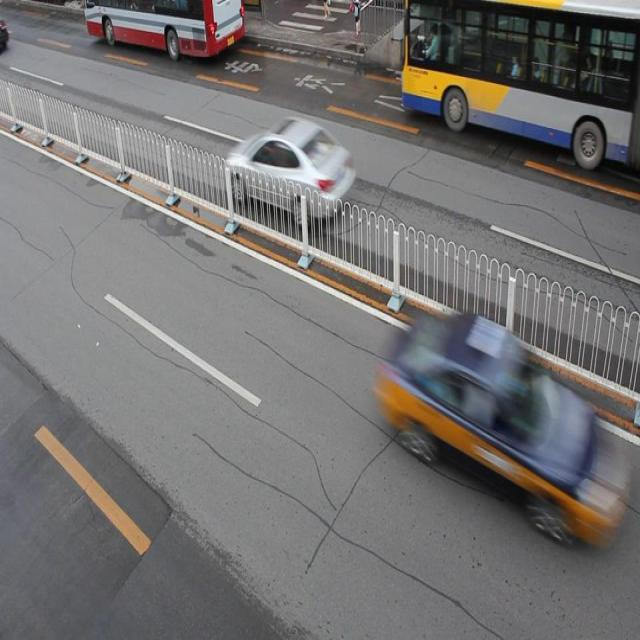car: (392, 312, 604, 546), (226, 116, 355, 228)
van: (399, 1, 640, 168), (88, 1, 247, 64)
